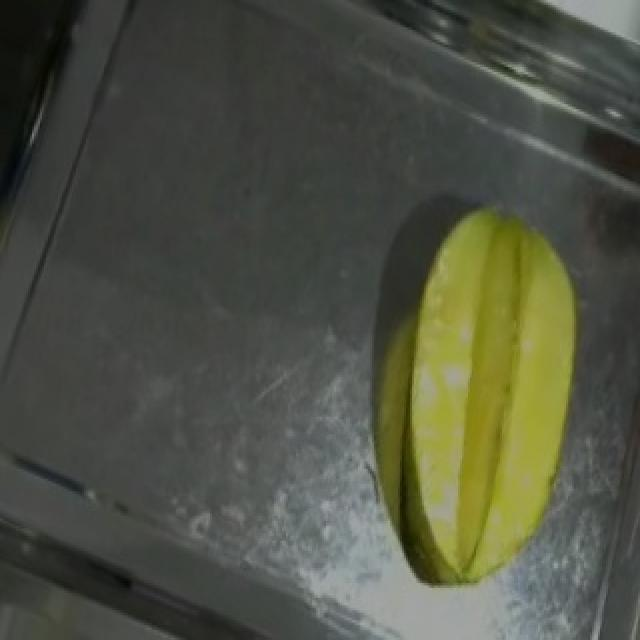fruit: (360, 176, 636, 581)
